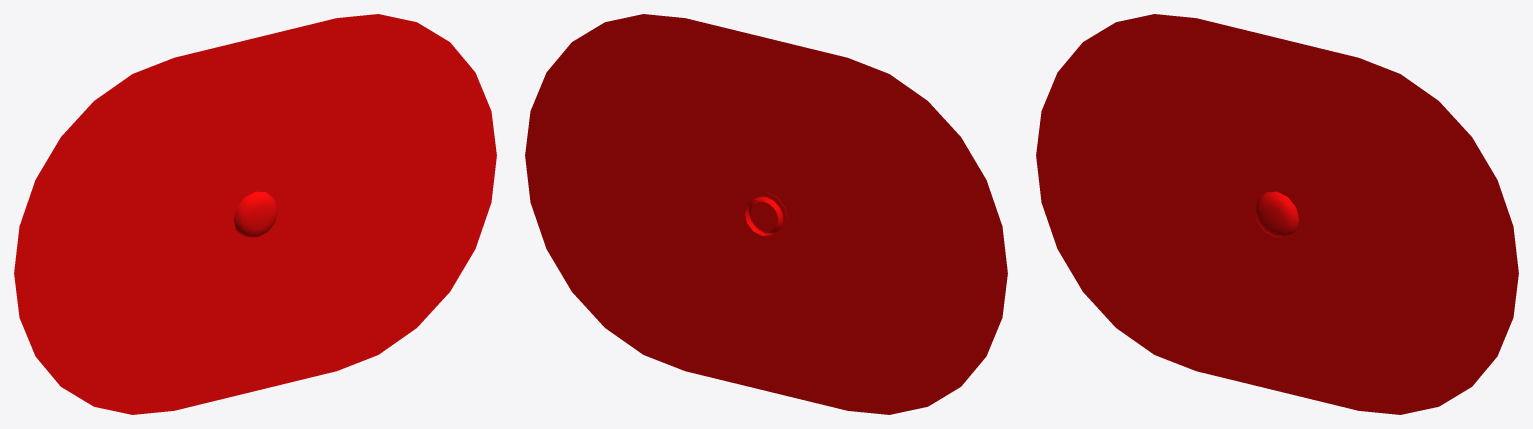
File: MeshPsSinkbasin_5_1.obj
The picture shows the model from 3 angles, left to right: view 1: azimuth 30°, elevation 25°; view 2: azimuth 150°, elevation 25°; view 3: azimuth 330°, elevation 25°; orthographic projection.
Visible parts, largest first — view 1: PsSinkbasin_5; view 2: PsSinkbasin_5; view 3: PsSinkbasin_5.
Part boxes in pixels (x1,y1,x2,y2): PsSinkbasin_5: (14,14,496,414); PsSinkbasin_5: (525,14,1007,414); PsSinkbasin_5: (1036,14,1518,414).
Size of the model in its own units: 0.4968 by 0.3472 by 0.0167.
